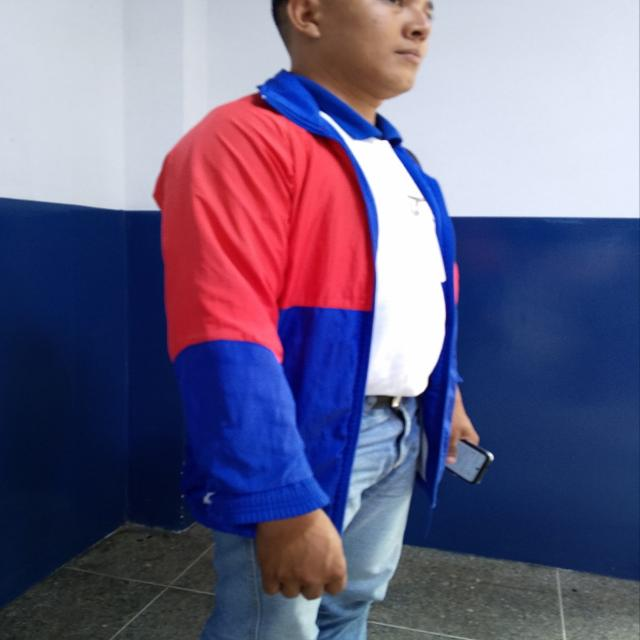chaqueta_unefa: (151, 68, 459, 538)
